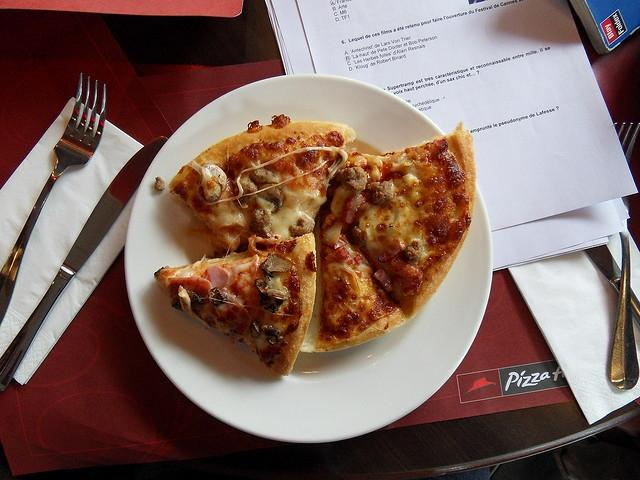mushroom: (187, 160, 227, 203), (254, 278, 291, 305), (259, 253, 293, 282), (256, 184, 284, 211), (206, 287, 228, 306), (262, 325, 282, 345), (328, 153, 342, 173), (250, 168, 267, 182), (250, 320, 261, 338), (276, 299, 284, 306)
